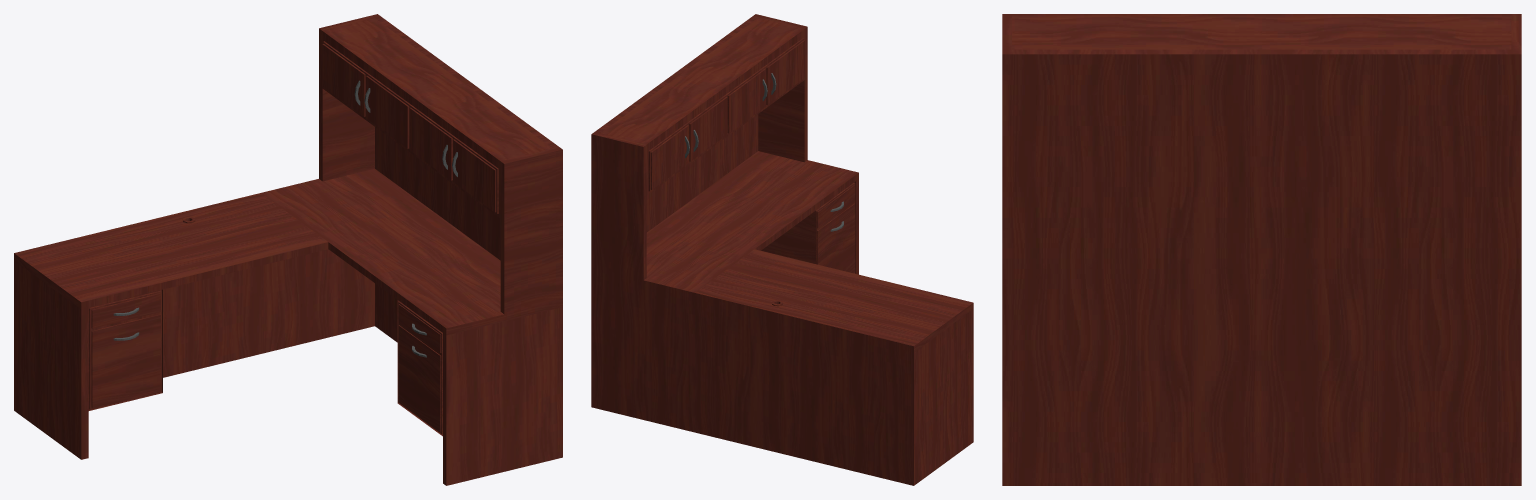
Rendered from Desk2.FBX.
3 views of the same model, side by side, from view 1: azimuth 30°, elevation 25°; view 2: azimuth 150°, elevation 25°; view 3: azimuth 270°, elevation 25° (orthographic). The views are drawn at different scales.
Visible parts, largest first — view 1: Desk2; view 2: Desk2; view 3: Desk2.
Part boxes in pixels (x1,y1,x2,y2): Desk2: [14, 14, 562, 485]; Desk2: [591, 14, 973, 485]; Desk2: [1002, 14, 1521, 485].
Size of the model in its own units: 180 by 146 by 159.
